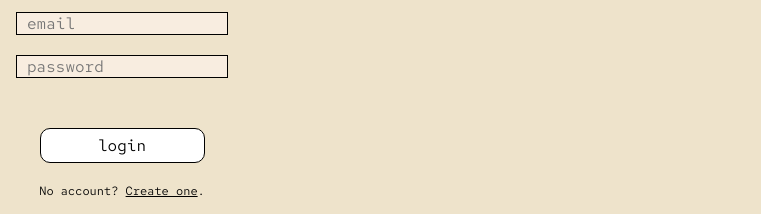
LoginState component › login should be unsuccessful › when missing either input
The width and height of the screenshot is (761, 214).
Click the button "login". click: (122, 146)
box: [40, 128, 204, 163]
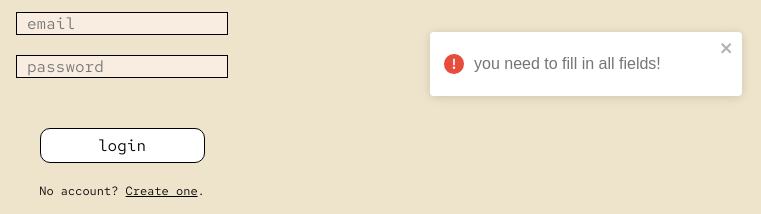
expect the text "you need to fill in all fields!" is shown: met, box [474, 55, 661, 72]
